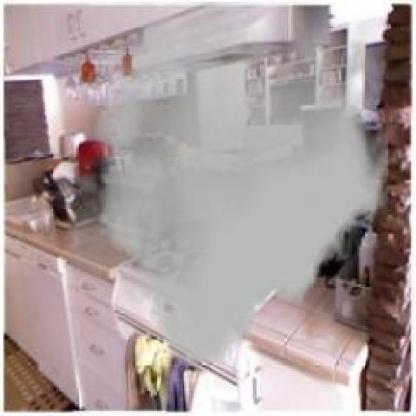Smoke: (56, 1, 394, 366)
